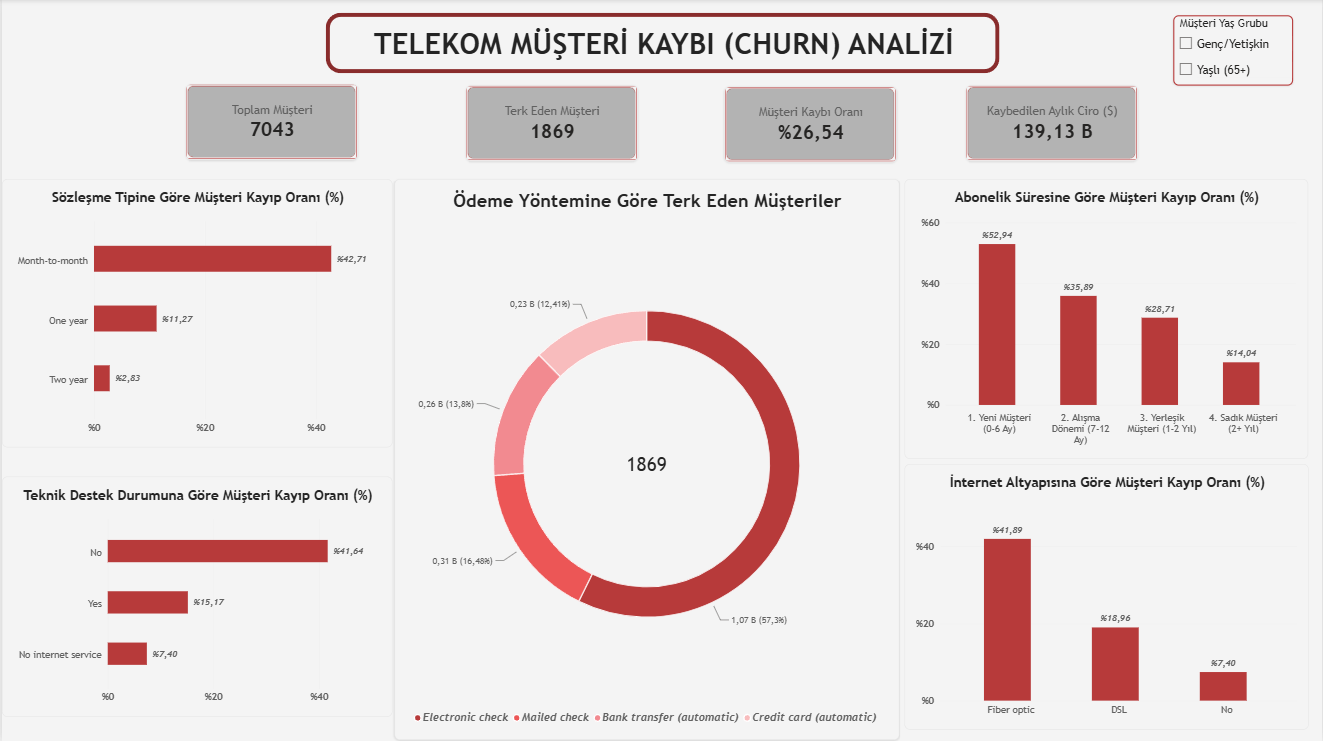

The dashboard page shown, as its layout file describes it:
{"tool":"powerbi","page":{"name":"1. sayfa","canvas":[1920,1080],"ordinal":0},"visuals":[{"type":"cardVisual","fields":{"Data":["vw_Telco_Churn_Analizi.Toplam Müşteri"]},"box":[268,122.8,250,110],"z":0},{"type":"cardVisual","fields":{"Data":["vw_Telco_Churn_Analizi.Terk Eden Müşteri"]},"box":[674,124.8,250,110],"z":1000},{"type":"cardVisual","fields":{"Data":["vw_Telco_Churn_Analizi.Churn Oranı"]},"box":[1050,126.8,250,110],"z":2000},{"type":"cardVisual","fields":{"Data":["Sum(vw_Telco_Churn_Analizi.Aylik_Fatura_Dolar)"]},"box":[1402,124.8,250,110],"z":3000},{"type":"barChart","title":"Sözleşme Tipine Göre Müşteri Kayıp Oranı (%)","fields":{"Category":["vw_Telco_Churn_Analizi.Sozlesme_Tipi"],"Y":["vw_Telco_Churn_Analizi.Churn Oranı"]},"box":[0,262,568,390],"z":4000},{"type":"columnChart","title":"İnternet Altyapısına Göre Müşteri Kayıp Oranı (%)","fields":{"Category":["vw_Telco_Churn_Analizi.Internet_Altyapisi"],"Y":["vw_Telco_Churn_Analizi.Churn Oranı"]},"box":[1312.1,676.6,588,386],"z":5000},{"type":"columnChart","title":"Abonelik Süresine Göre Müşteri Kayıp Oranı (%)","fields":{"Category":["vw_Telco_Churn_Analizi.Abonelik_Suresi_Grubu"],"Y":["vw_Telco_Churn_Analizi.Churn Oranı"]},"box":[1313.1,261.7,586.9,407.5],"z":6000},{"type":"donutChart","title":"Ödeme Yöntemine Göre Terk Eden Müşteriler","fields":{"Category":["vw_Telco_Churn_Analizi.Odeme_Yontemi"],"Y":["vw_Telco_Churn_Analizi.Terk Eden Müşteri"]},"box":[570,262,734,816],"z":7000},{"type":"clusteredBarChart","title":"Teknik Destek Durumuna Göre Müşteri Kayıp Oranı (%)","fields":{"Category":["vw_Telco_Churn_Analizi.Teknik_Destek"],"Y":["vw_Telco_Churn_Analizi.Churn Oranı"]},"box":[0,694.4,568.2,349.5],"z":8000},{"type":"slicer","fields":{"Values":["vw_Telco_Churn_Analizi.Yas_Grubu"]},"box":[1704,24,174,102],"z":9000},{"type":"textbox","box":[428,40,1070,68],"z":10000},{"type":"shape","box":[470,20,980,88],"z":11000}]}

Visuals, with their boxes in screenshot pixels (x1, y1, x2, y2), scaled from the page's 1920x1080 canvas onto the 1323x741 screenshot:
cardVisual - vw_Telco_Churn_Analizi.Toplam Müşteri: {"x1": 185, "y1": 84, "x2": 357, "y2": 160}
cardVisual - vw_Telco_Churn_Analizi.Terk Eden Müşteri: {"x1": 464, "y1": 86, "x2": 637, "y2": 161}
cardVisual - vw_Telco_Churn_Analizi.Churn Oranı: {"x1": 724, "y1": 87, "x2": 896, "y2": 162}
cardVisual - Sum(vw_Telco_Churn_Analizi.Aylik_Fatura_Dolar): {"x1": 966, "y1": 86, "x2": 1138, "y2": 161}
"Sözleşme Tipine Göre Müşteri Kayıp Oranı (%)" barChart: {"x1": 0, "y1": 180, "x2": 391, "y2": 447}
"İnternet Altyapısına Göre Müşteri Kayıp Oranı (%)" columnChart: {"x1": 904, "y1": 464, "x2": 1309, "y2": 729}
"Abonelik Süresine Göre Müşteri Kayıp Oranı (%)" columnChart: {"x1": 905, "y1": 180, "x2": 1309, "y2": 459}
"Ödeme Yöntemine Göre Terk Eden Müşteriler" donutChart: {"x1": 393, "y1": 180, "x2": 899, "y2": 740}
"Teknik Destek Durumuna Göre Müşteri Kayıp Oranı (%)" clusteredBarChart: {"x1": 0, "y1": 476, "x2": 392, "y2": 716}
slicer - vw_Telco_Churn_Analizi.Yas_Grubu: {"x1": 1174, "y1": 16, "x2": 1294, "y2": 86}
textbox: {"x1": 295, "y1": 27, "x2": 1032, "y2": 74}
shape: {"x1": 324, "y1": 14, "x2": 999, "y2": 74}
